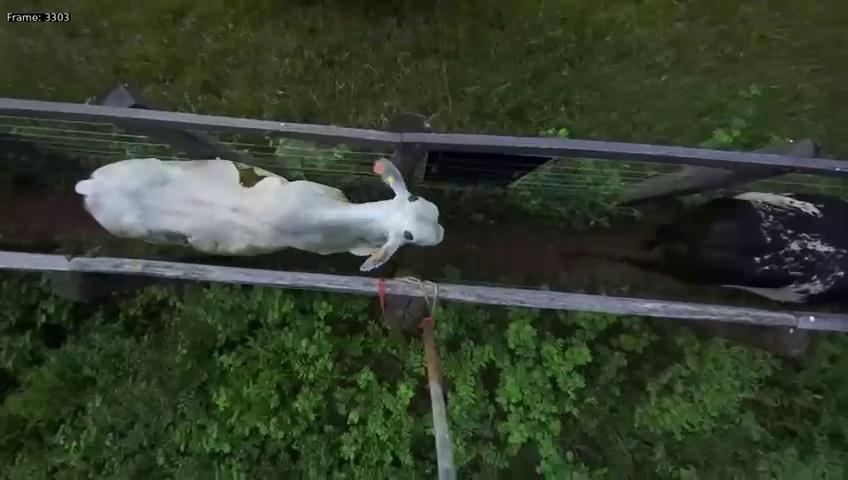cattle: (68, 146, 446, 275)
